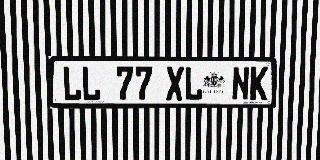7: (115, 66, 134, 101), (134, 66, 152, 101)
K: (250, 66, 268, 100)
L: (81, 66, 101, 101), (62, 66, 81, 101), (184, 66, 203, 101)
N: (231, 66, 250, 100)
X: (166, 66, 184, 101)
